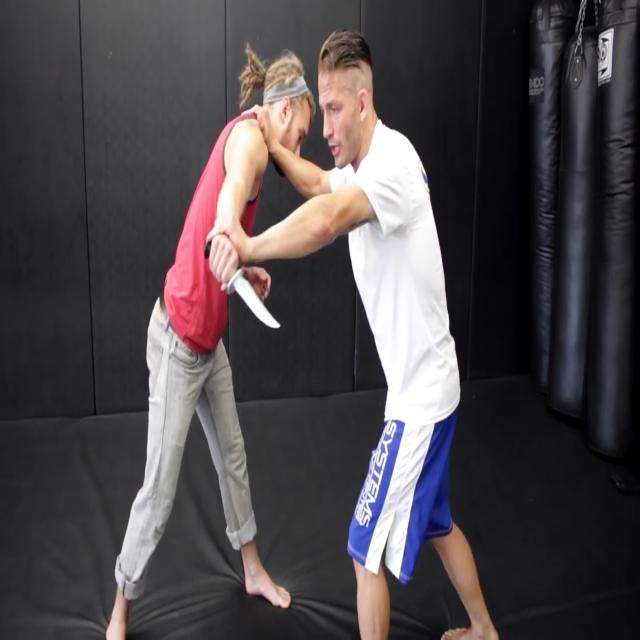knife: (230, 269, 285, 345)
